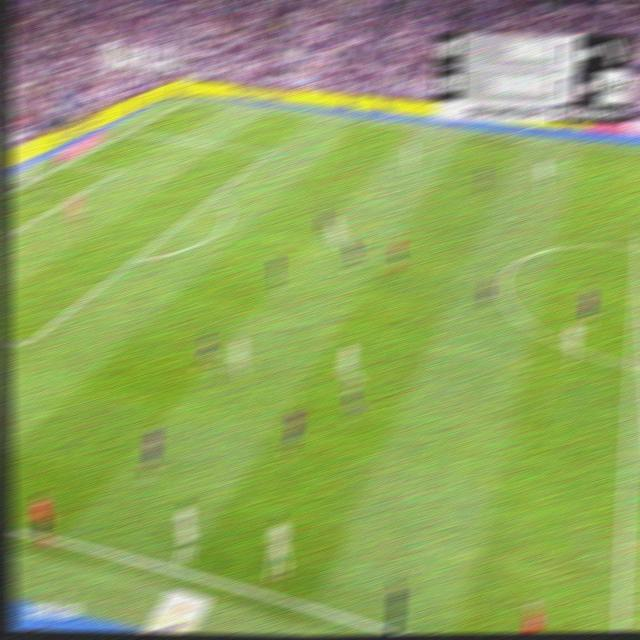bigarea_bottom_inner: (16, 332, 34, 354)
bigarea_top_inner: (262, 147, 274, 157)
bigarea_top_outter: (122, 124, 136, 135)
bottom_arc_area_intersection: (127, 250, 143, 266)
halfcircle_bottom: (622, 350, 640, 376)
halfcircle_top: (629, 236, 640, 258)
smallarea_top_inner: (111, 165, 122, 174)
top_arc_area_intersection: (210, 186, 223, 199)
